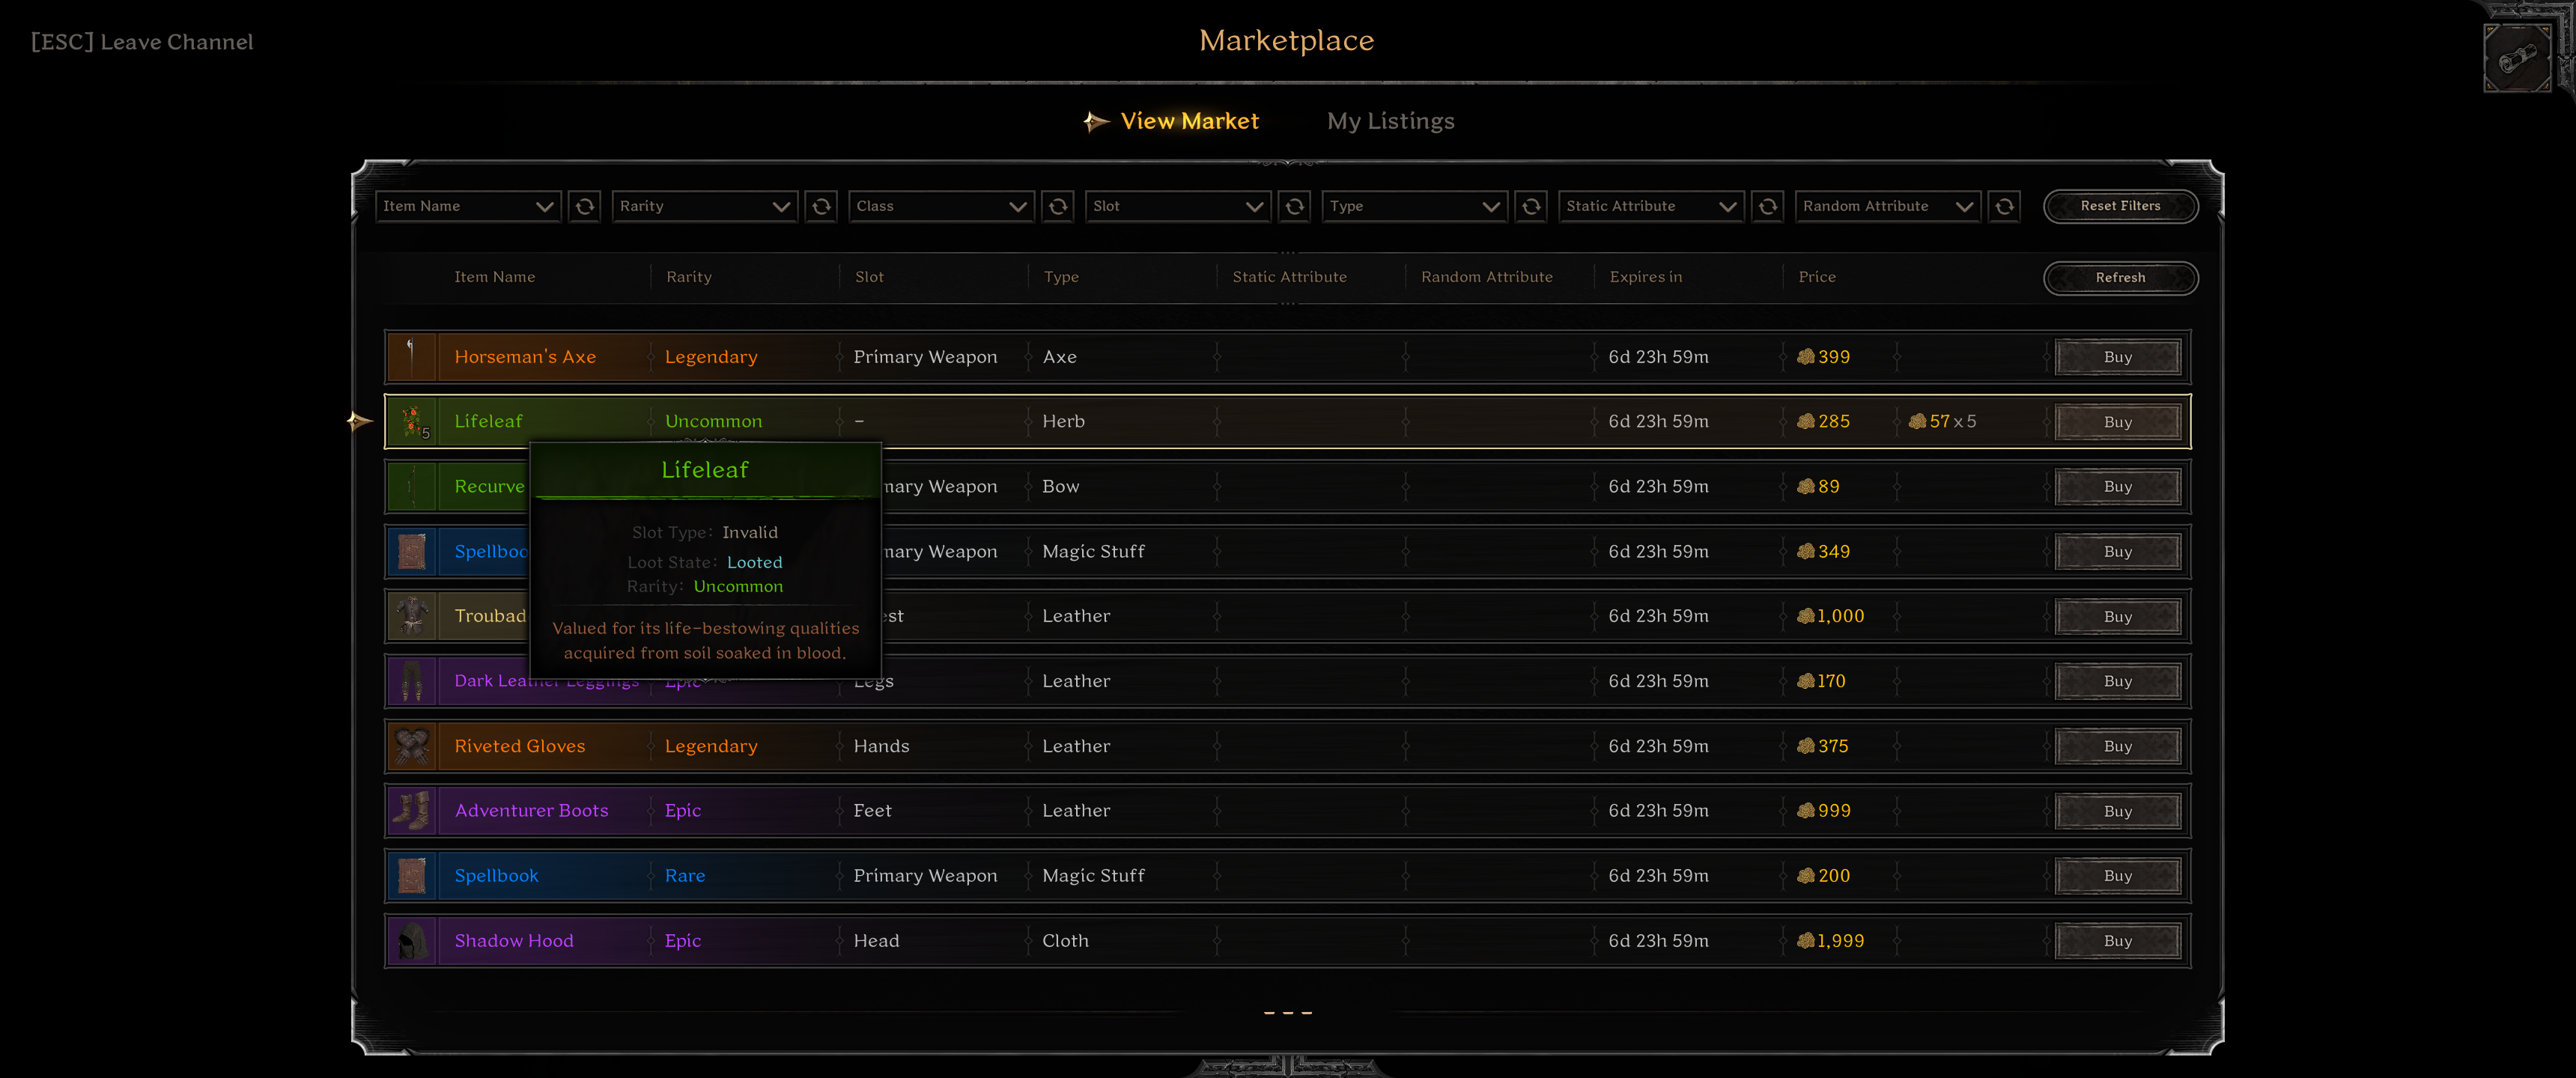Tooltip: (527, 440, 882, 680)
